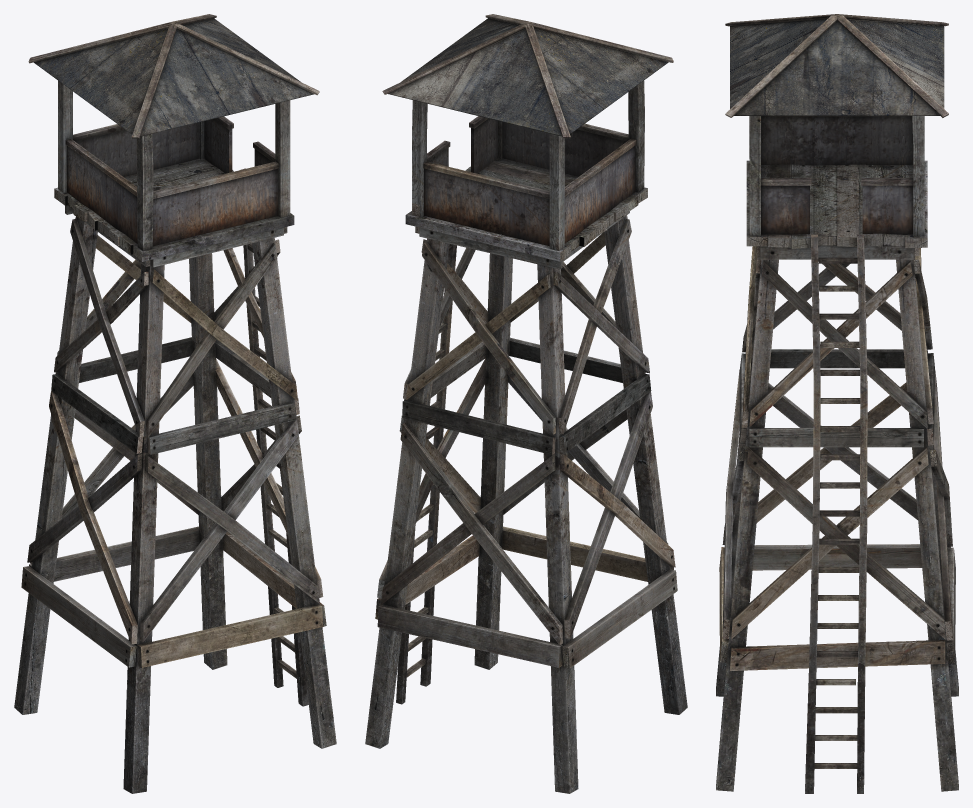
File: watchtower.fbx
3 views of the same model, side by side, from view 1: azimuth 30°, elevation 25°; view 2: azimuth 150°, elevation 25°; view 3: azimuth 270°, elevation 25° (orthographic). The views are drawn at different scales.
Parts seen in each view (by area): view 1: Guard_Tower06_Guard_Tower06_0; view 2: Guard_Tower06_Guard_Tower06_0; view 3: Guard_Tower06_Guard_Tower06_0.
Boxes of the visible parts, <box> form: Guard_Tower06_Guard_Tower06_0: <box>14,14,336,793</box>; Guard_Tower06_Guard_Tower06_0: <box>365,14,687,793</box>; Guard_Tower06_Guard_Tower06_0: <box>716,14,958,793</box>.
Size of the model in its own units: 65.86 by 202 by 61.19.
1 material, 1 textured.
